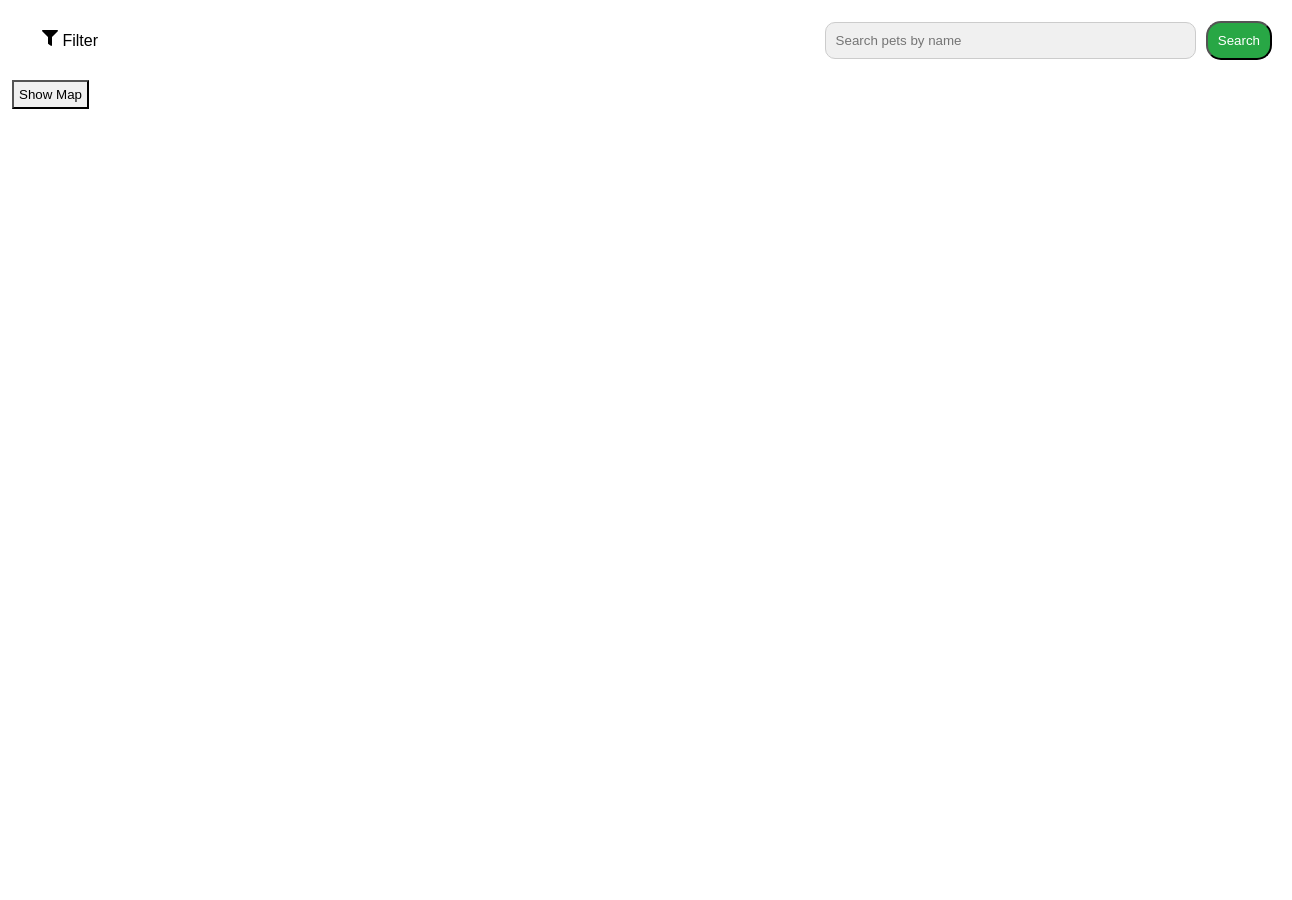
Test: <PetListings /> › should toggle map view when Show Map/Show Listings button is clicked
Step 1. Click the button "Show Map" → (50, 94), box [12,80,89,109]
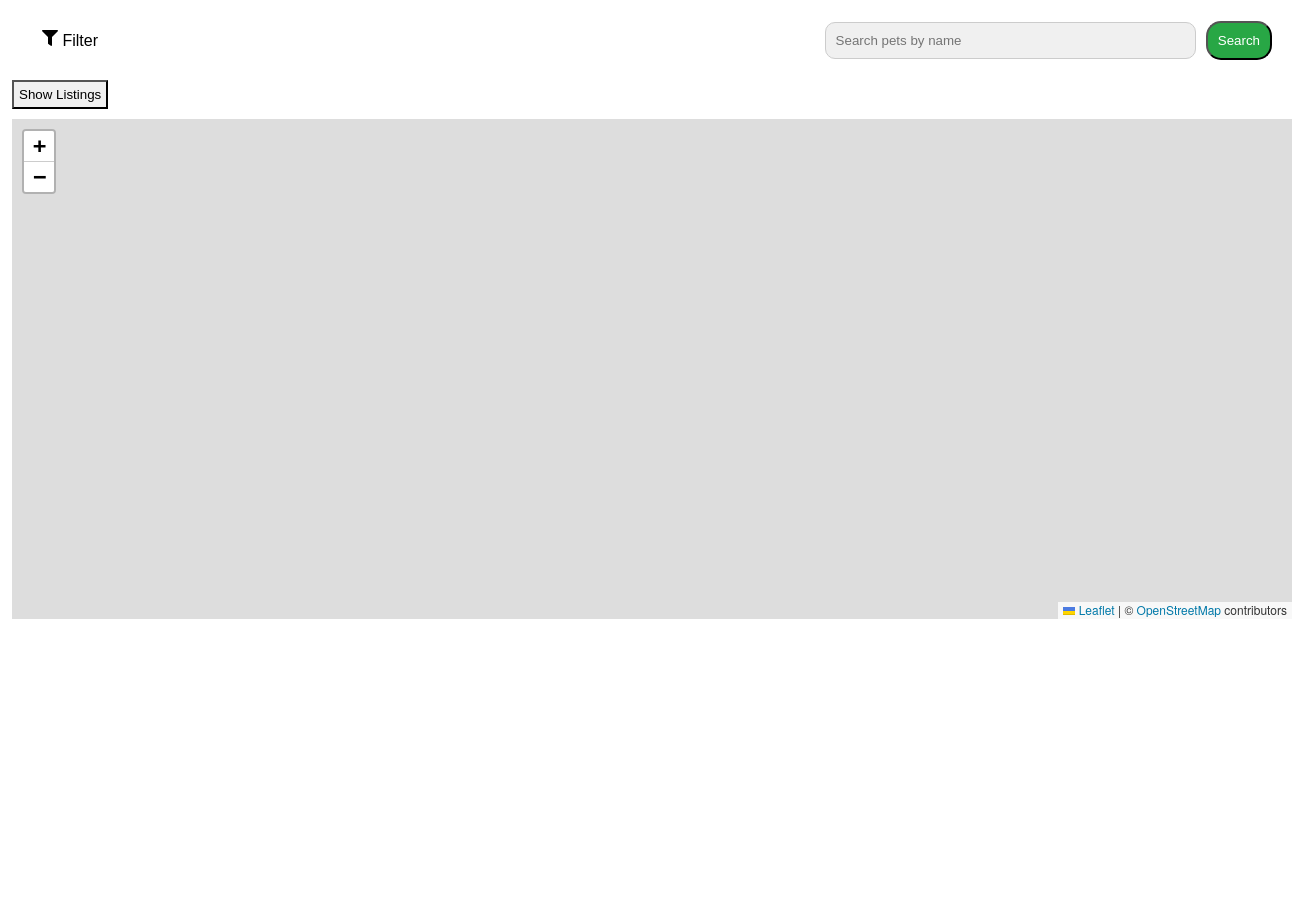
Result: the button "Show Listings" is shown
Step 2. Click the button "Show Listings" → (60, 94), box [12,80,108,109]
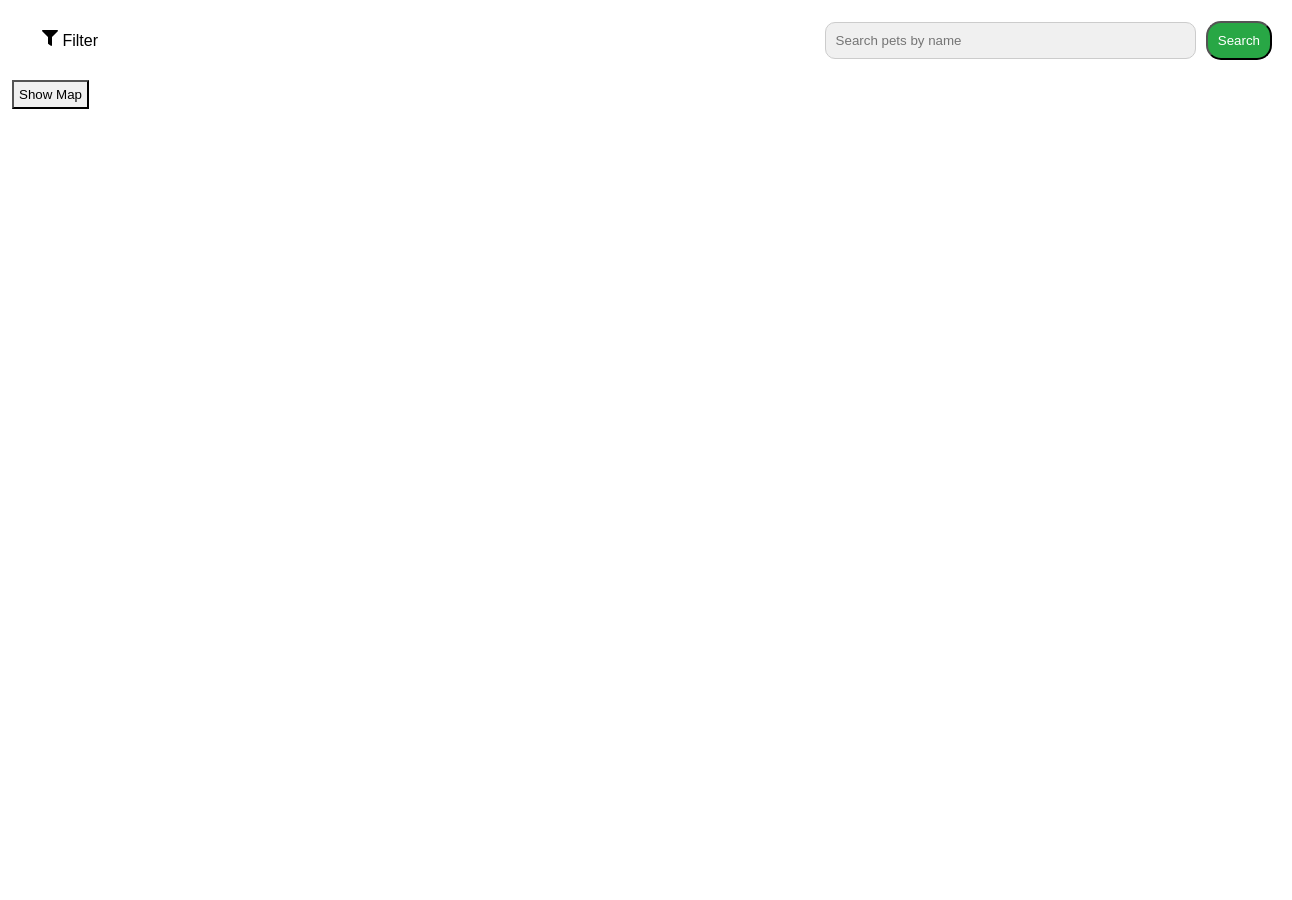
Result: the button "Show Map" is shown at [12,80,89,109]
